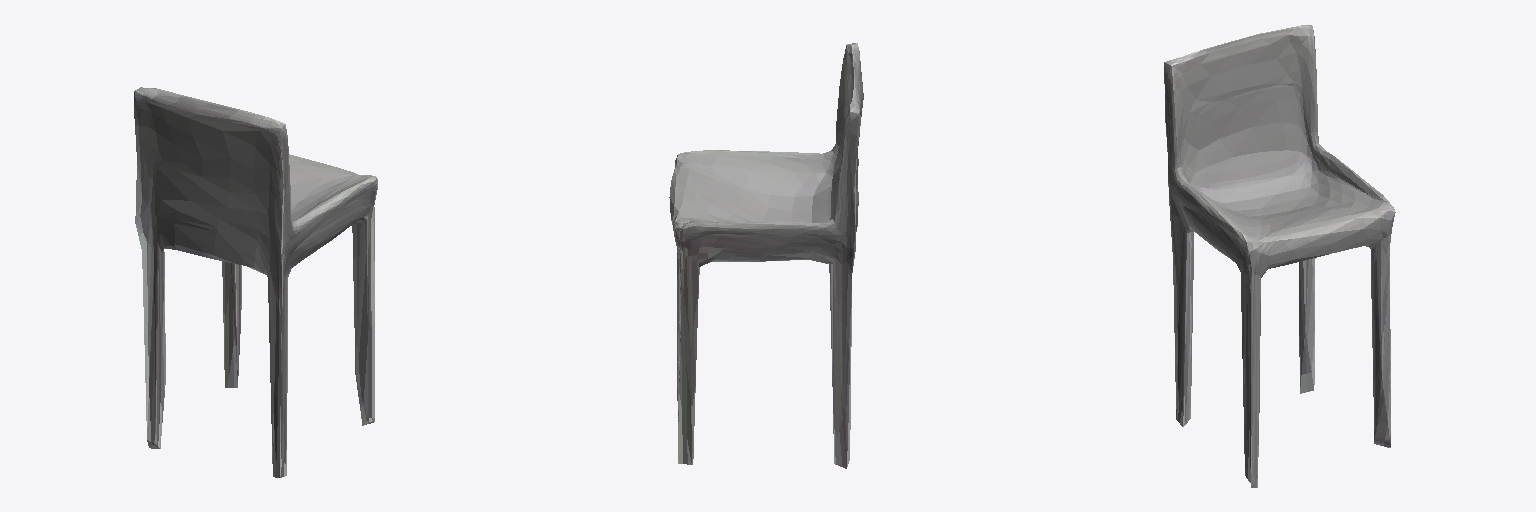
3 views of the same model, side by side, from view 1: azimuth 30°, elevation 25°; view 2: azimuth 150°, elevation 25°; view 3: azimuth 270°, elevation 25° (orthographic).
Size of the model in its own units: 0.6049 by 1 by 0.566.
1 materials, 1 textured.